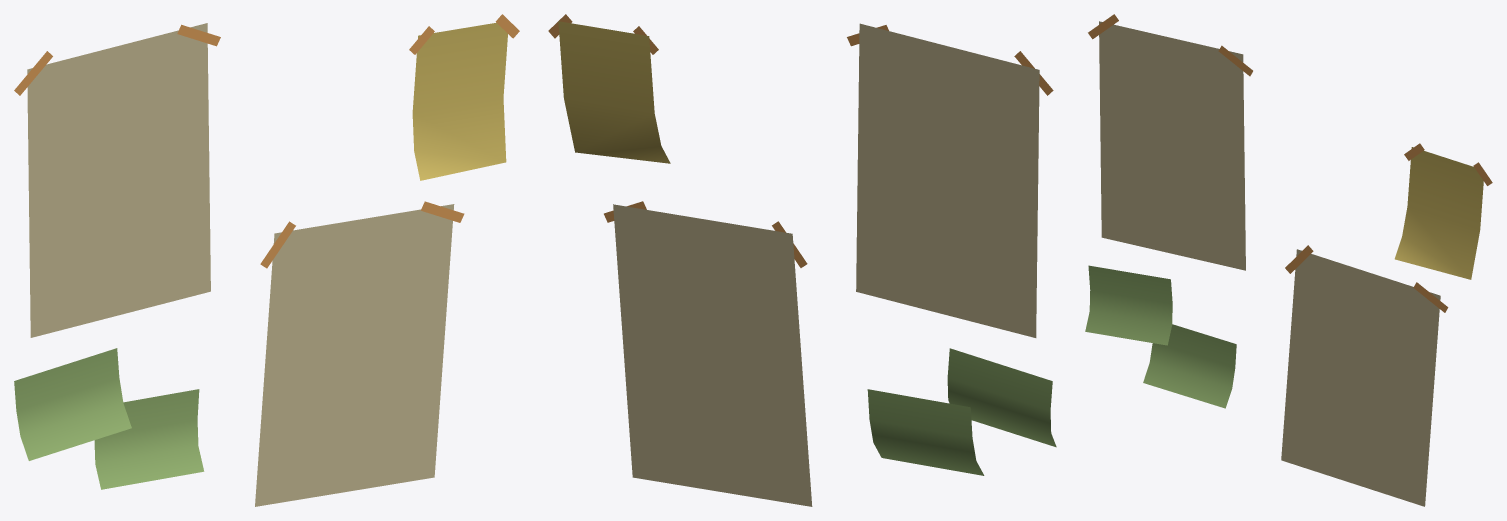
File: SM_Wall_Postits_GRP_02.fbx
The picture shows the model from 3 angles, left to right: view 1: azimuth 30°, elevation 25°; view 2: azimuth 150°, elevation 25°; view 3: azimuth 330°, elevation 25°; orthographic projection. The views are drawn at different scales.
Parts seen in each view (by area): view 1: SM_Wall_Postits_GRP_02; view 2: SM_Wall_Postits_GRP_02; view 3: SM_Wall_Postits_GRP_02.
Boxes of the visible parts, x1,y1,x2,y2 form: SM_Wall_Postits_GRP_02: (14,14,519,506); SM_Wall_Postits_GRP_02: (548,14,1056,506); SM_Wall_Postits_GRP_02: (1085,14,1492,506).
Bounding box in the file's own units: 58.94 × 58.05 × 2.41.
